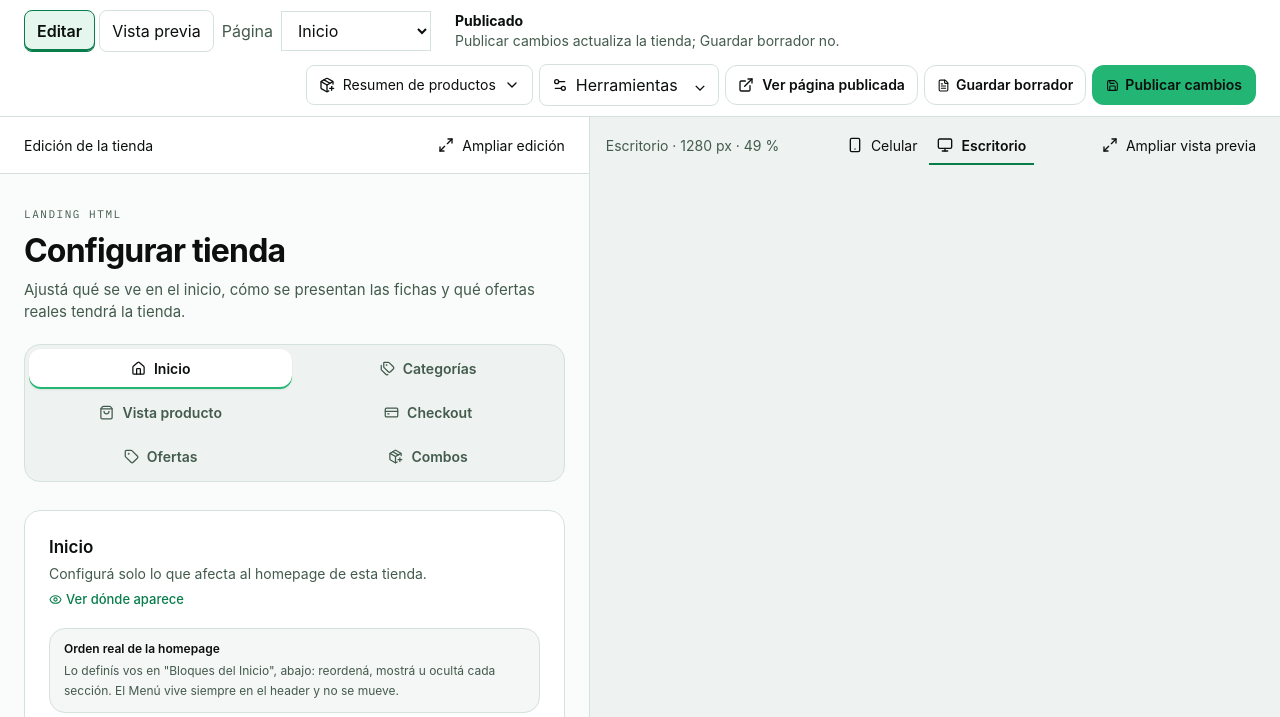
Test case: Borrador del editor de la tienda › Guardar borrador no publica: usa el endpoint del borrador y avisa que la tienda no cambió
Step 1. Click the button "Guardar borrador" → (1005, 85), box [924, 65, 1086, 105]
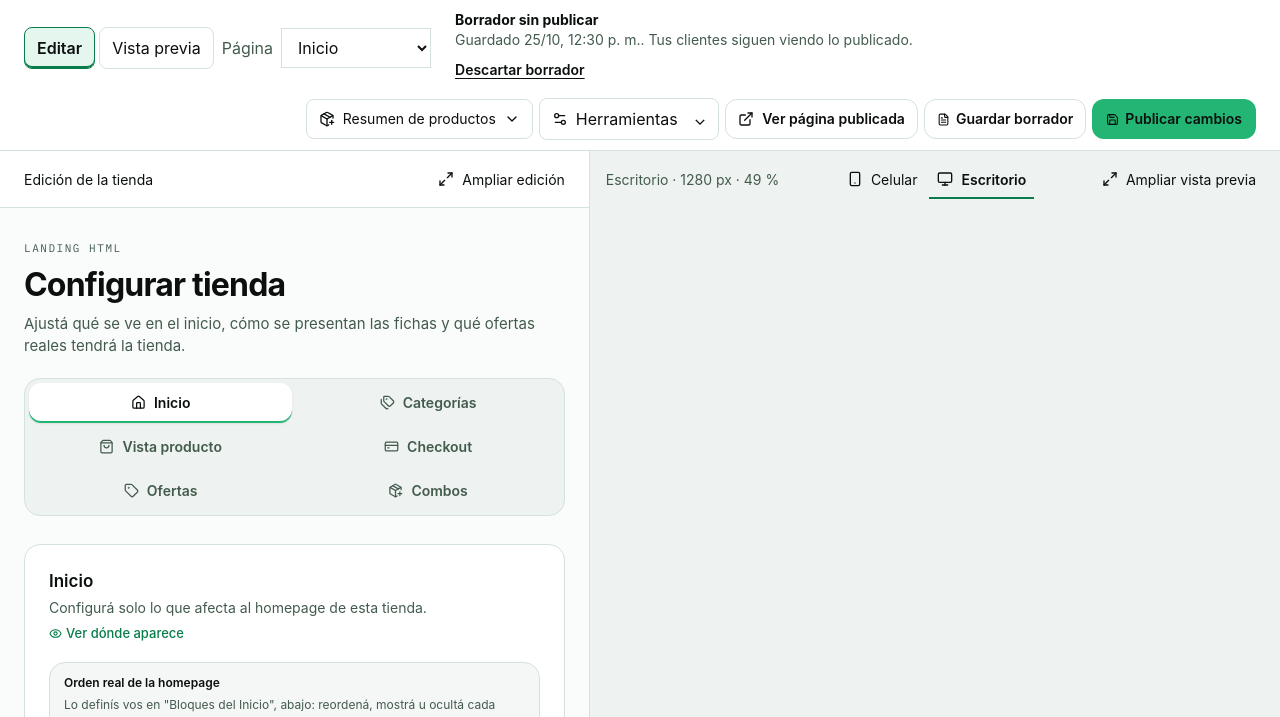
Now the text "Borrador sin publicar" is shown, box [455, 11, 598, 28]
Now the button "Descartar borrador" is shown, box [455, 54, 585, 86]
